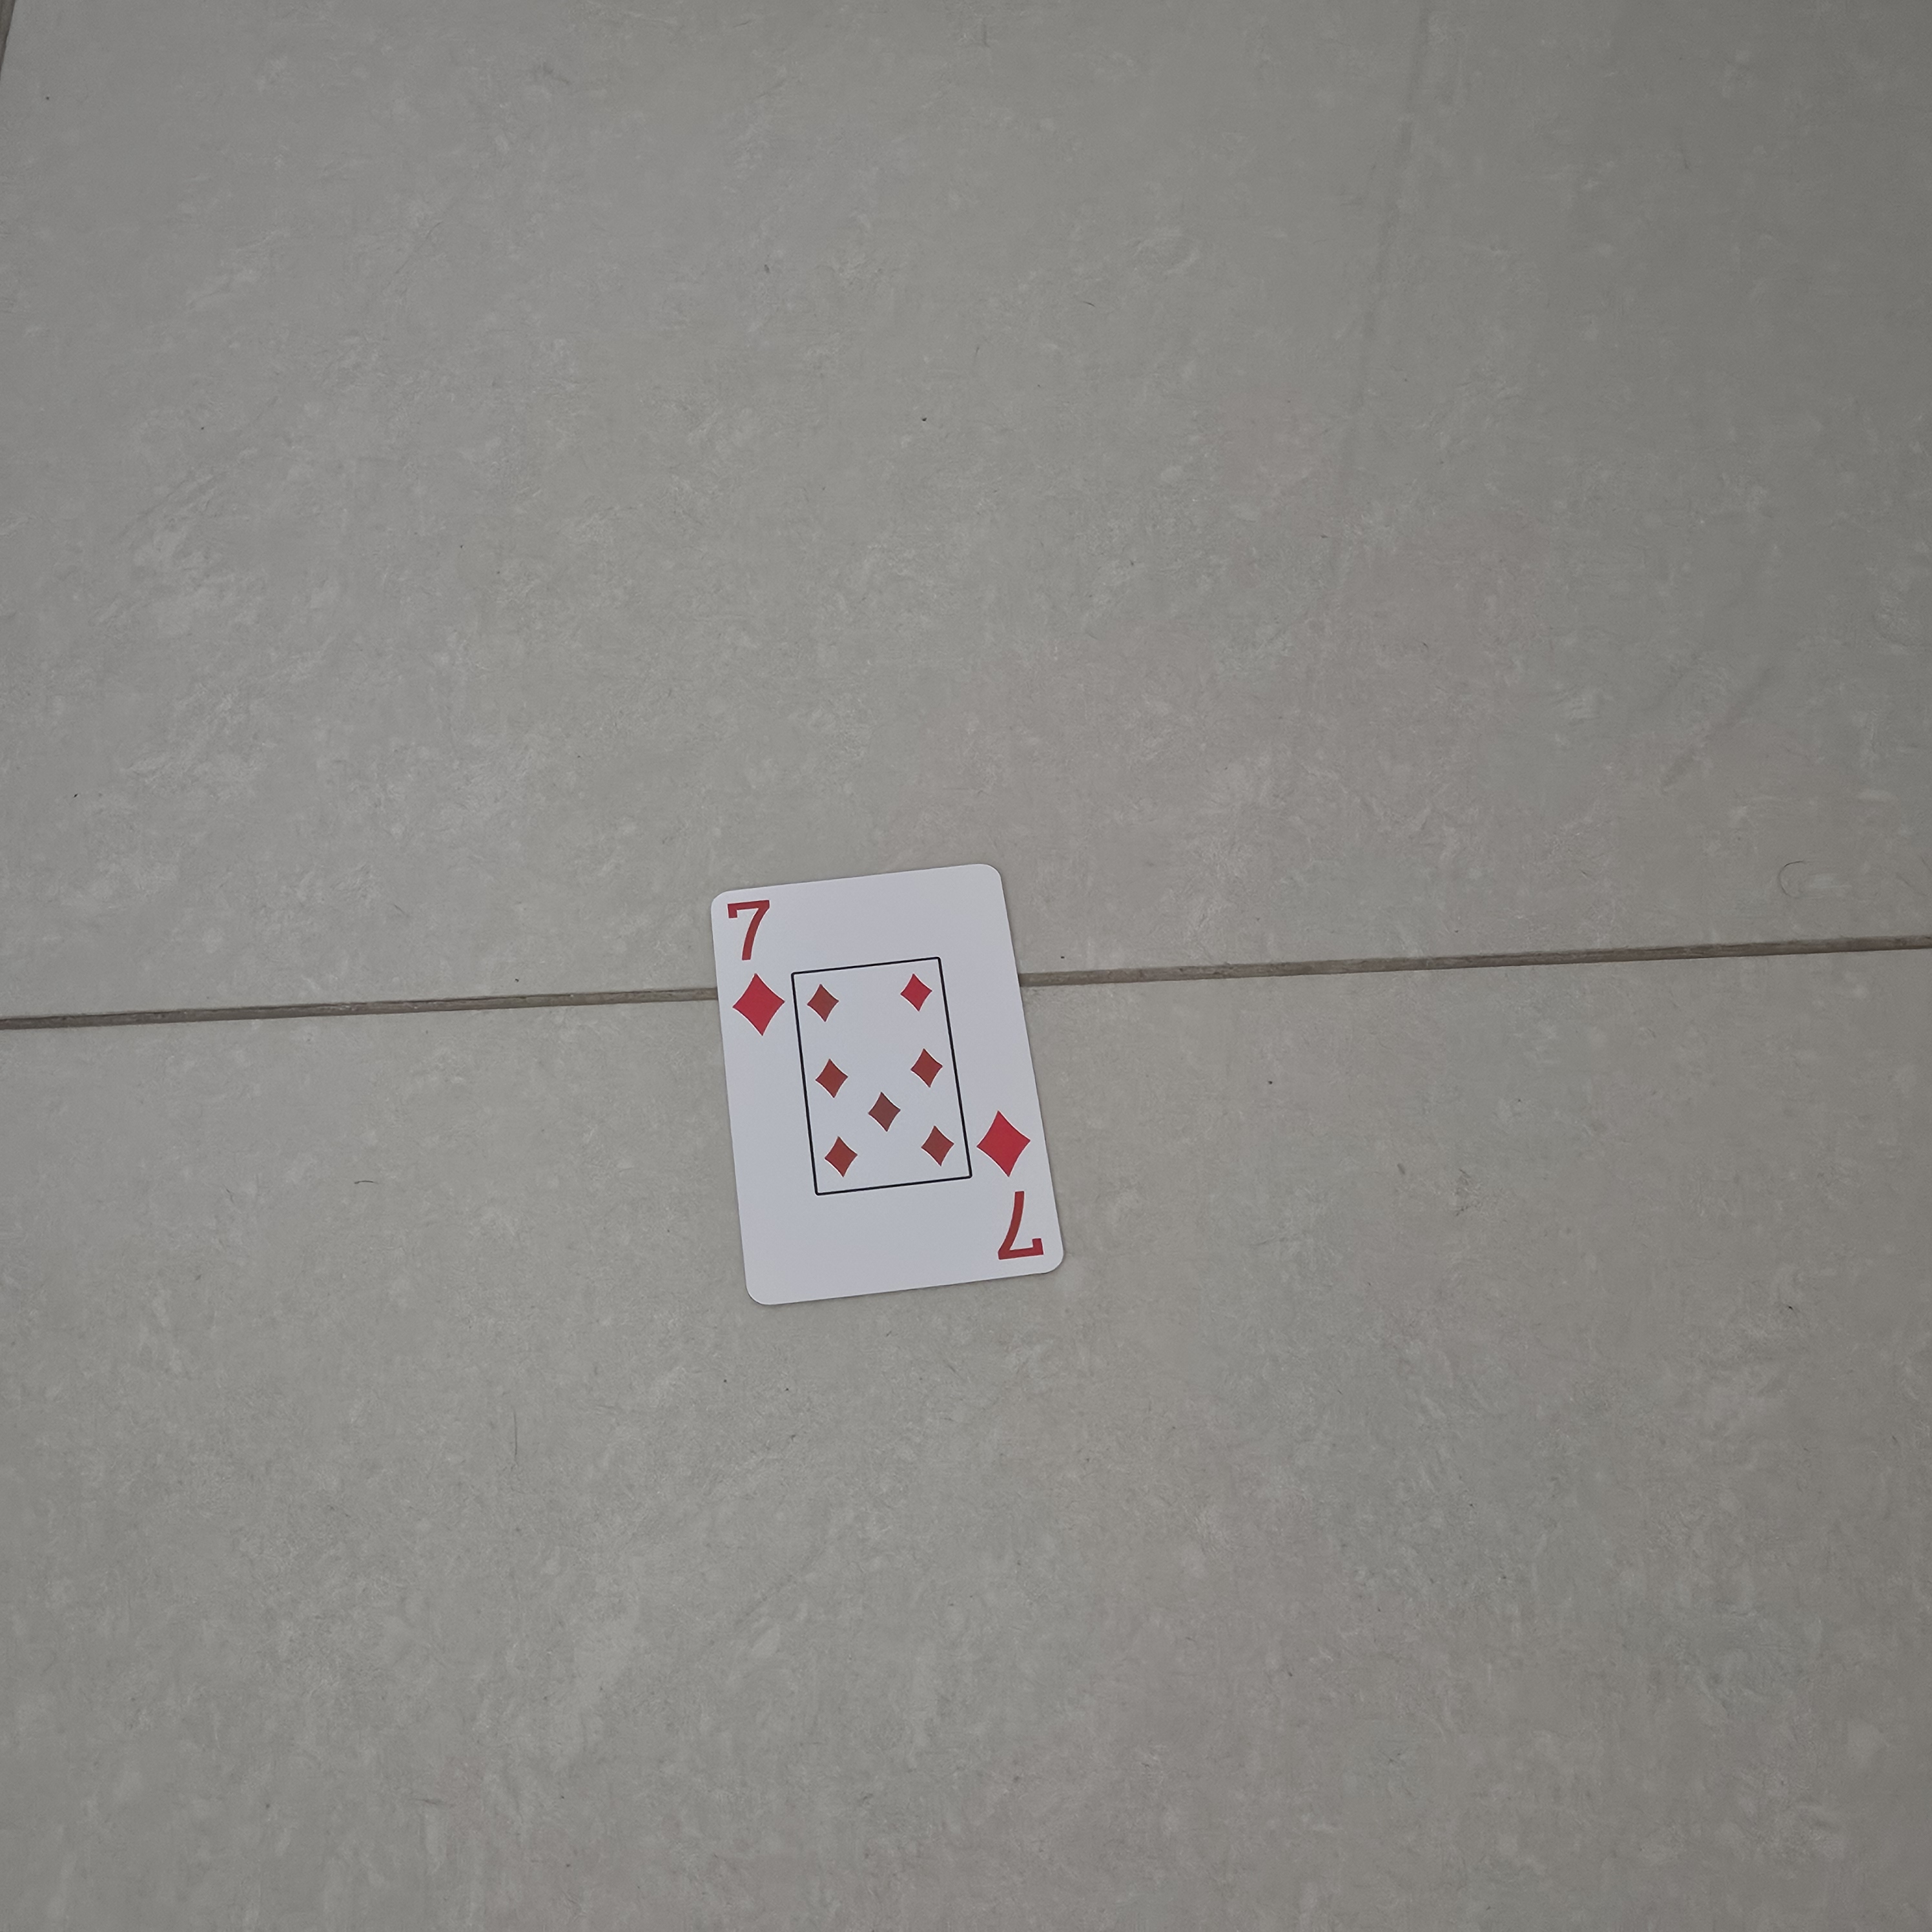7O: (962, 1100, 1065, 1272), (711, 885, 798, 1044)
